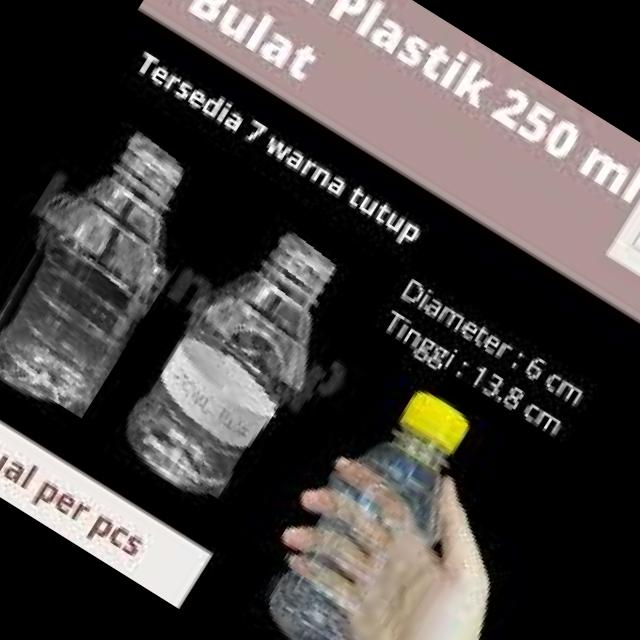plastic bottle: (116, 179, 399, 512), (242, 358, 524, 640), (0, 98, 235, 418)
